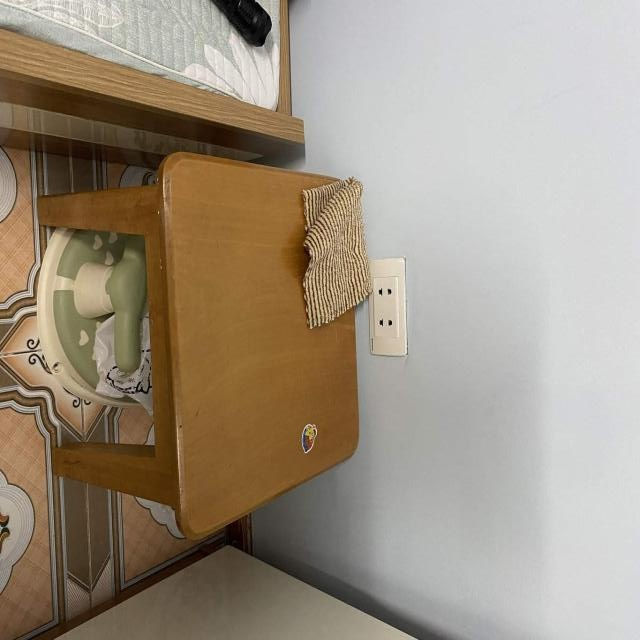outlet: (368, 256, 408, 356)
